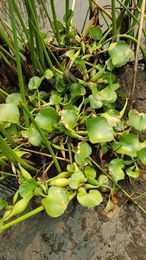water_hyacinth: (0, 36, 146, 217)
